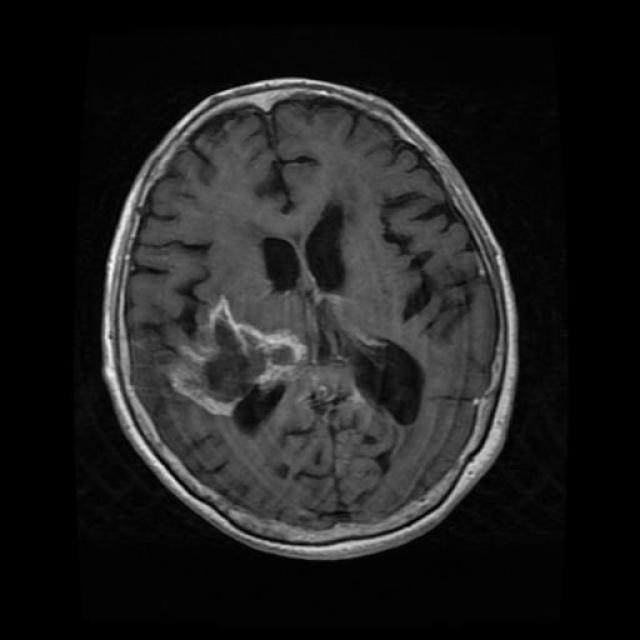brain_tumor: (186, 321, 294, 396)
